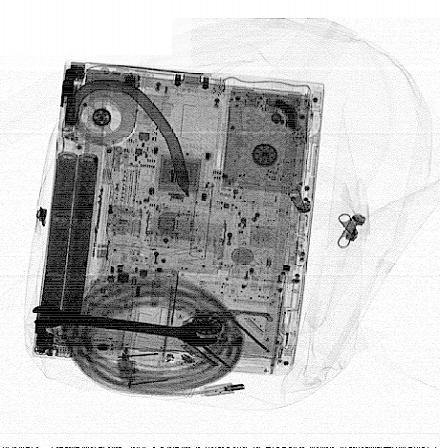Wrench: (30, 303, 220, 351)
